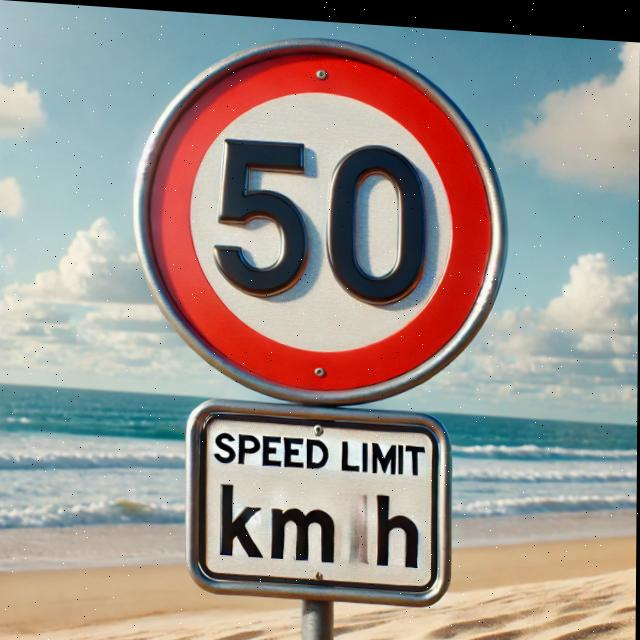Speed limit 50: (132, 24, 512, 411)
